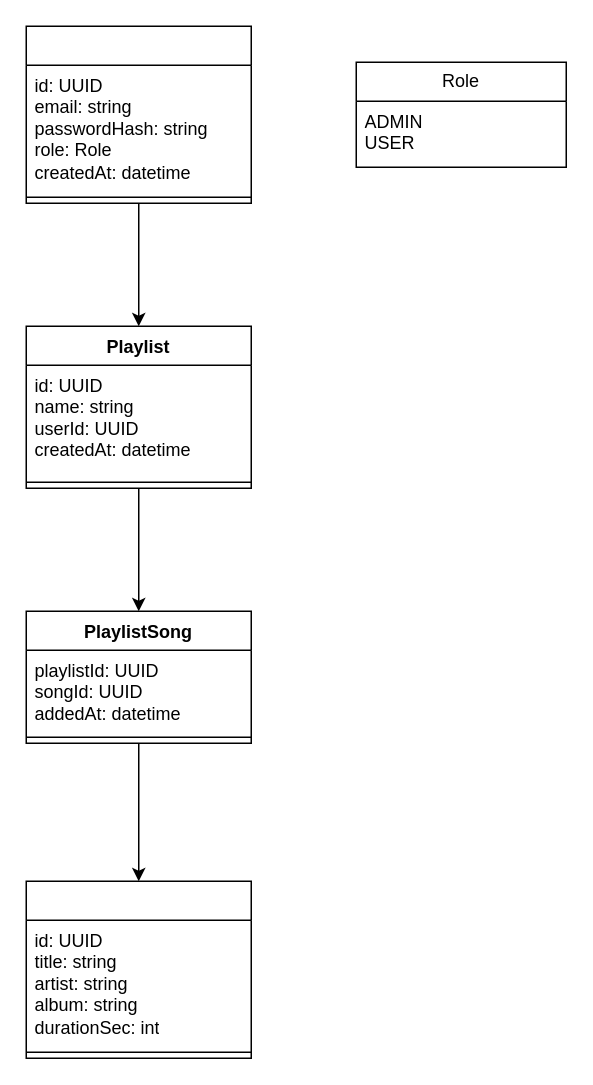
The diagram is 593 pixels wide and 1085 high, and some of its shapes have lost their labels. Here are the shapes that lost their labels. From the top down, the box of each, then its label:
(25, 25, 251, 203): User
(25, 880, 251, 1058): Song
